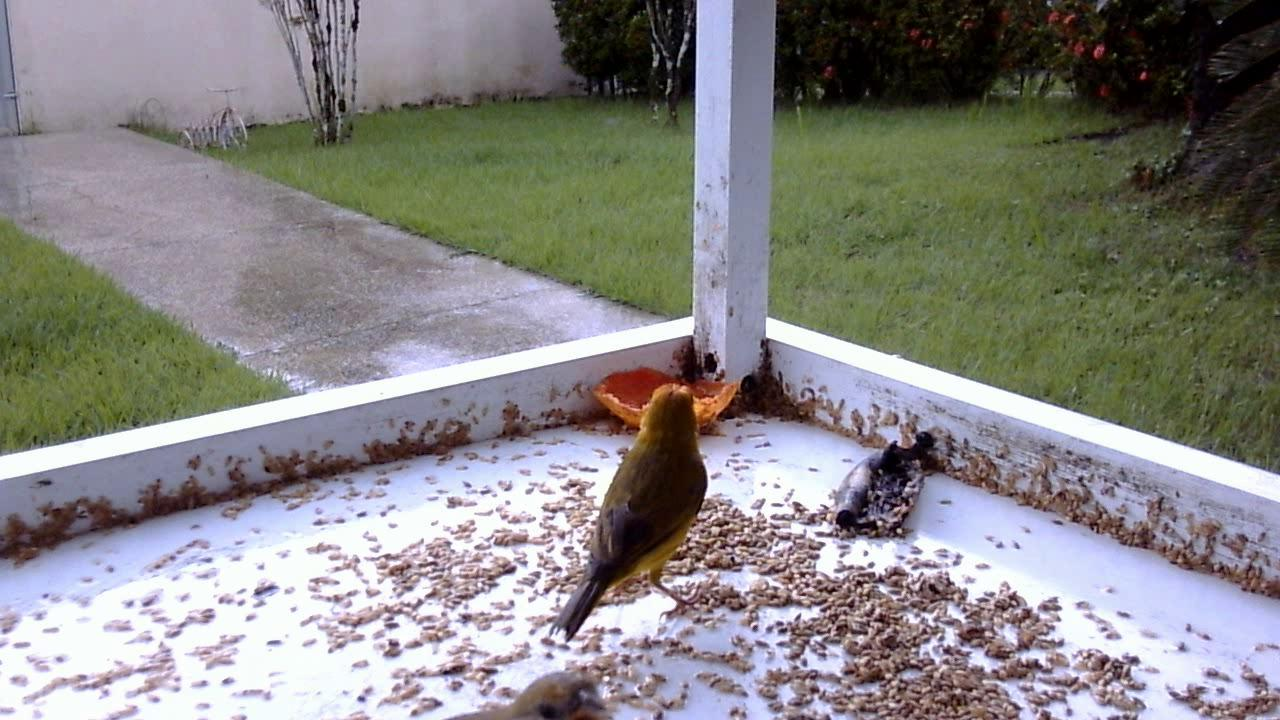canario_do_amazonas: (548, 382, 718, 642), (483, 664, 624, 718)
